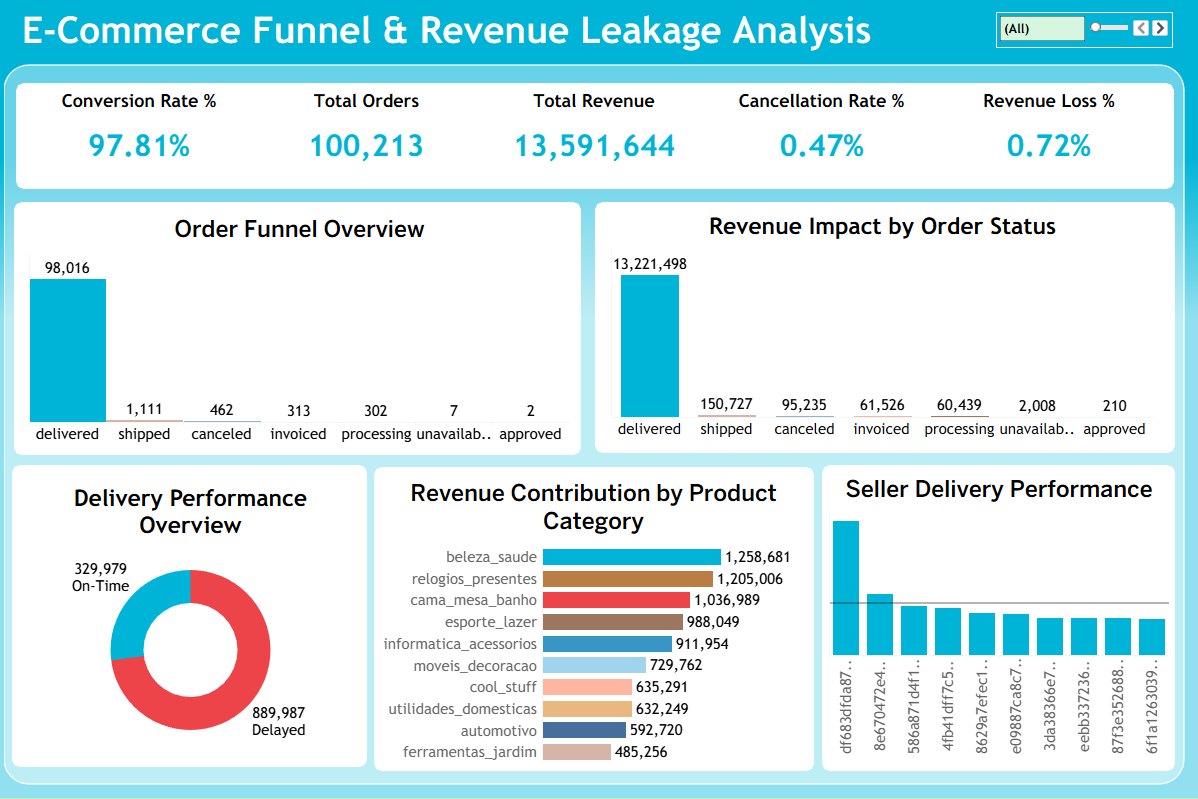

The dashboard page shown, as its layout file describes it:
{"tool":"tableau","page":{"name":"dashboard","canvas":[1200,800],"ordinal":0},"visuals":[{"type":"image","param":"Image/canva bg.png","box":[0,0,1200,800]},{"type":"worksheet","title":"Box","mark":"Automatic","box":[6,4,1184,800]},{"type":"text","box":[9,11,879,42]},{"type":"filter","title":"Overview","param":"[federated.1gx0l561vcgk6k1b4dp6f0dob7g1].[none:order_status:nk]","box":[998,14,177,36]},{"type":"worksheet","title":"Kpis","mark":"Automatic","box":[27,93,1138,90]},{"type":"worksheet","title":"Revenue leakage","mark":"Automatic","rows":["order_value"],"cols":["order_status"],"box":[613,210,543,231]},{"type":"worksheet","title":"Overview","mark":"Bar","rows":["Calculation_280349098698260481"],"cols":["order_status"],"box":[31,213,541,233]},{"type":"worksheet","title":"Seller impact","mark":"Bar","rows":["delivery_days"],"cols":["seller_id"],"box":[831,473,340,284]},{"type":"worksheet","title":"Category Impact","mark":"Bar","rows":["product_category_name"],"cols":["order_value"],"box":[384,477,423,288]},{"type":"worksheet","title":"Delivery Performance","mark":"Pie","cols":["Calculation_1120270429408235525","Calculation_1120270429408235525"],"box":[25,482,335,271]}]}

Visuals, with their boxes in screenshot pixels (x1, y1, x2, y2), scaled from the page's 1200x800 canvas onto the 1198x799 screenshot:
image: 0/0/1197/798
"Box" worksheet: 6/4/1188/798
text: 9/11/887/53
"Overview" filter: 996/14/1173/50
"Kpis" worksheet: 27/93/1163/183
"Revenue leakage" worksheet: 612/210/1154/440
"Overview" worksheet (Bar marks): 31/213/571/445
"Seller impact" worksheet (Bar marks): 830/472/1169/756
"Category Impact" worksheet (Bar marks): 383/476/806/764
"Delivery Performance" worksheet (Pie marks): 25/481/359/752
